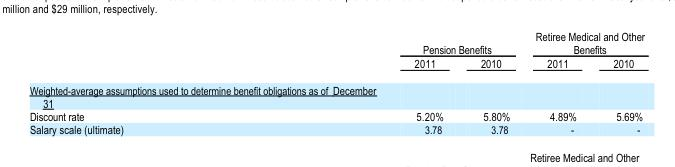table: (28, 28, 643, 135)
table column: (28, 28, 268, 135), (268, 28, 461, 135), (522, 28, 594, 135), (461, 28, 522, 135), (594, 28, 643, 135)
table column header: (28, 28, 643, 76)
table projected row header: (28, 76, 643, 109)
table row: (28, 76, 643, 109), (28, 28, 643, 55), (28, 55, 643, 76), (28, 109, 643, 122), (28, 122, 643, 135)
table spanning cell: (268, 28, 522, 55), (522, 28, 643, 55)
